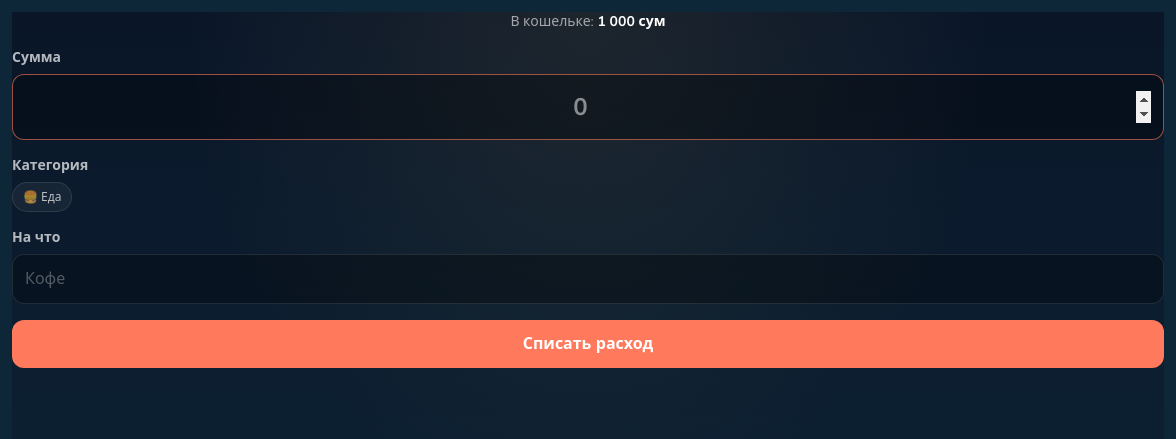
Test case: SpendDialog › требует название
The width and height of the screenshot is (1176, 439).
Type "100" into the number field with placeholder "0".
click(588, 107); type("100")  # box [12,74,1164,140]
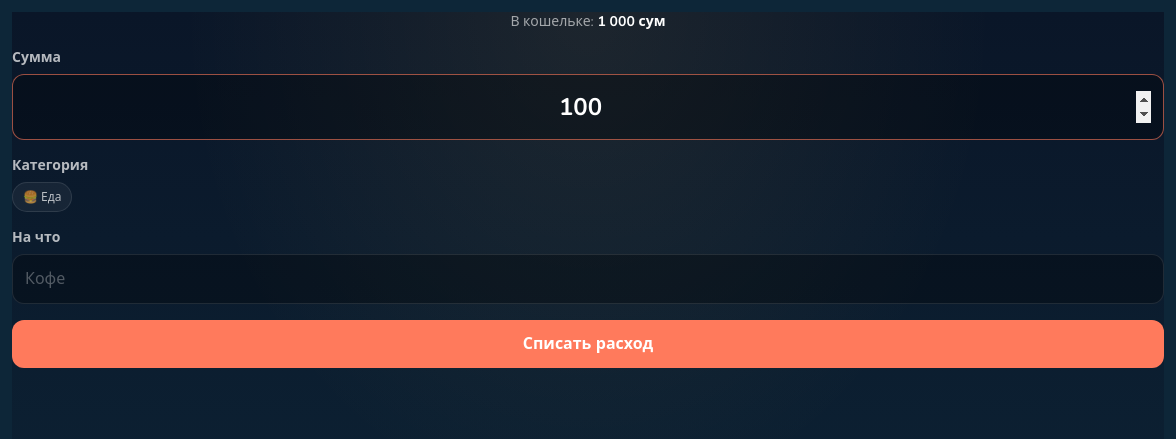
Click the button "Списать расход".
click(588, 344)  # box [12,320,1164,368]
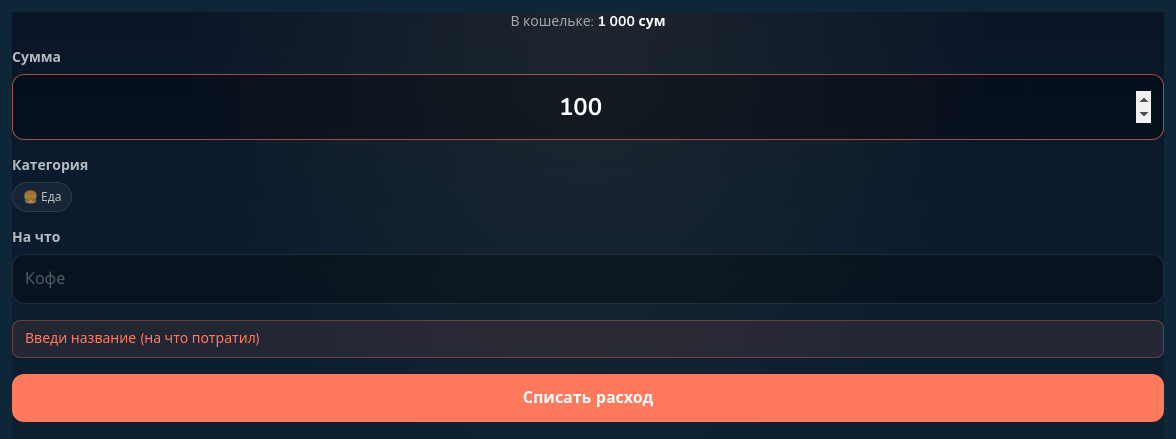
Check: the text "Введи название (на что потратил)" is shown, box [12,320,1164,358]
